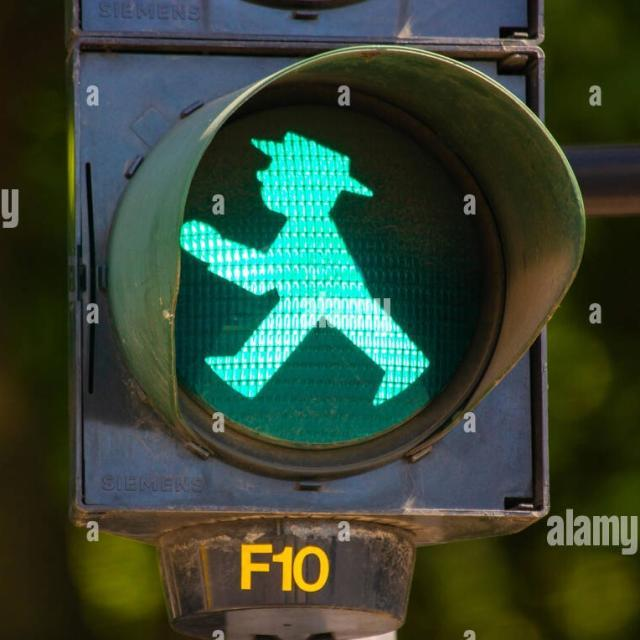green_light: (196, 124, 427, 402)
